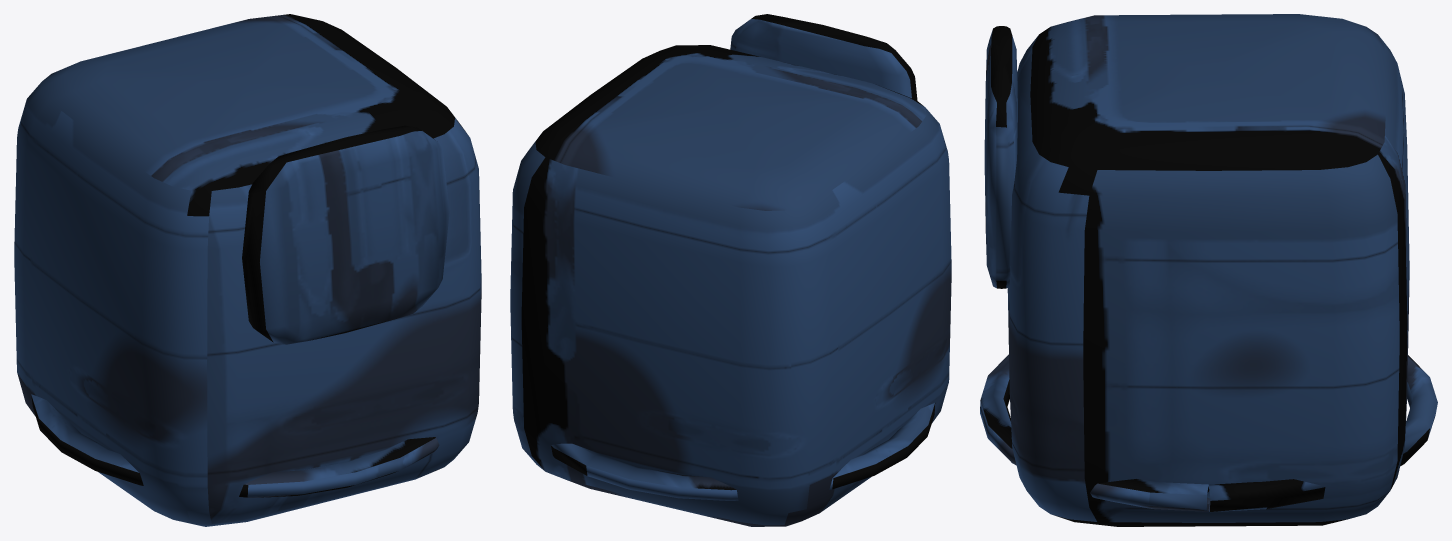
The model's file is Tano_PerneraAbajoIzq.fbx.
3 views of the same model, side by side, from view 1: azimuth 30°, elevation 25°; view 2: azimuth 150°, elevation 25°; view 3: azimuth 270°, elevation 25° (orthographic). The views are drawn at different scales.
Visible parts, largest first — view 1: Tano_PerneraAbajoIzq; view 2: Tano_PerneraAbajoIzq; view 3: Tano_PerneraAbajoIzq.
Boxes of the visible parts, box(x1,y1,x2,y2) form: Tano_PerneraAbajoIzq: box(14, 14, 481, 526); Tano_PerneraAbajoIzq: box(510, 14, 951, 526); Tano_PerneraAbajoIzq: box(980, 14, 1437, 526).
Size of the model in its own units: 1.43 by 1.43 by 1.43.
